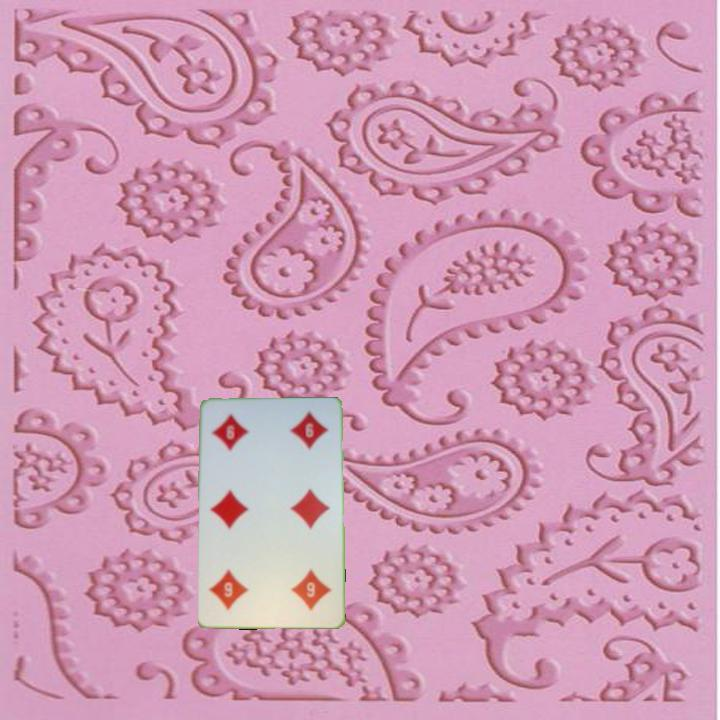d_6.png: (207, 407, 274, 465), (268, 560, 335, 618)
